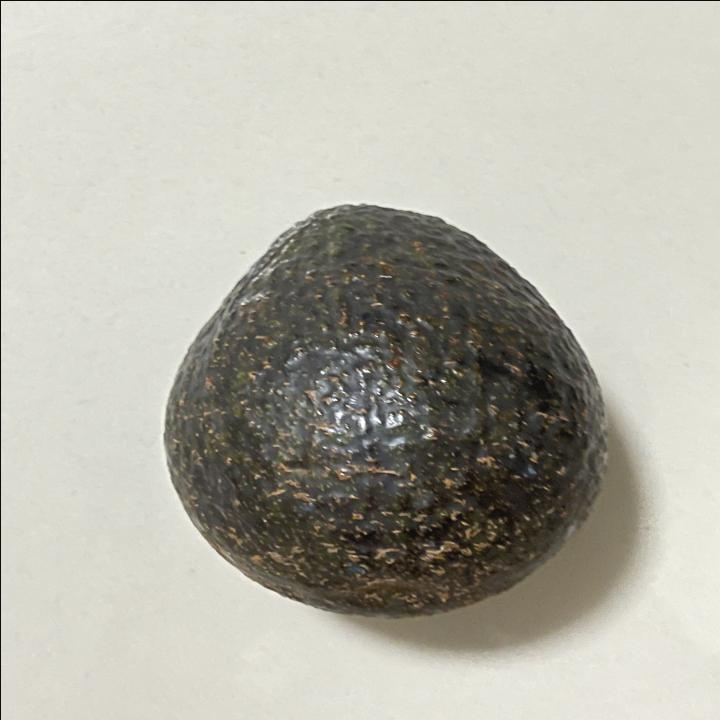Level1: (140, 189, 622, 628)
